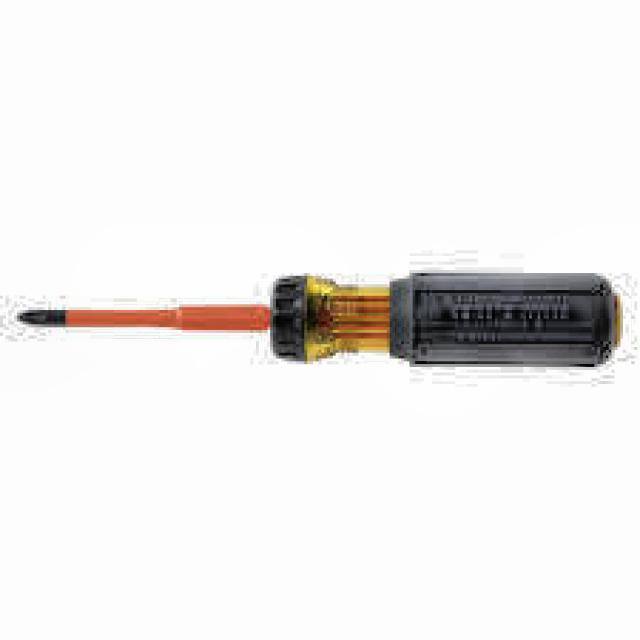screwdriver: (20, 273, 622, 365)
